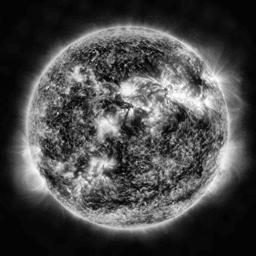solar flares: (159, 74, 187, 105), (118, 78, 146, 100), (98, 113, 119, 139), (87, 157, 118, 169), (191, 94, 210, 111), (73, 67, 87, 83), (74, 178, 88, 190)
sunspots: (93, 190, 147, 207), (57, 115, 75, 157), (122, 58, 161, 77), (116, 146, 133, 178), (161, 108, 182, 132), (102, 67, 125, 86), (188, 74, 208, 95), (103, 98, 126, 116), (68, 92, 92, 107), (127, 117, 141, 141), (189, 114, 211, 128), (193, 155, 204, 176), (176, 190, 195, 202), (157, 142, 173, 156), (79, 156, 86, 173)
